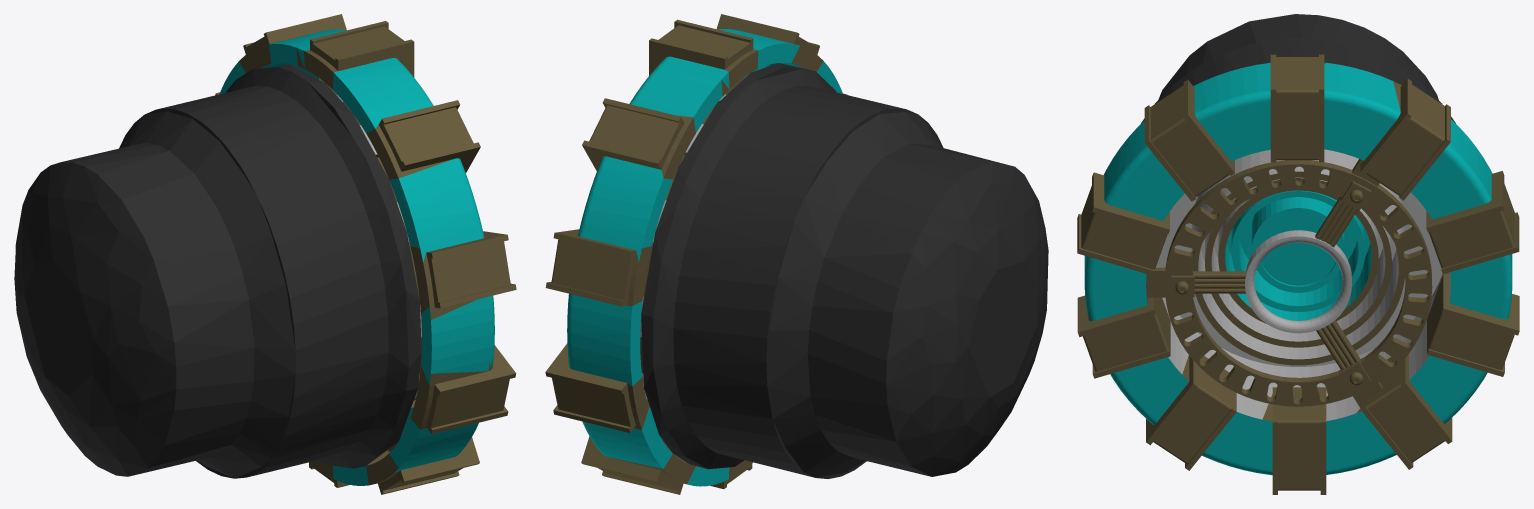
File: rEACTOR.fbx
The picture shows the model from 3 angles, left to right: view 1: azimuth 30°, elevation 25°; view 2: azimuth 150°, elevation 25°; view 3: azimuth 270°, elevation 25°; orthographic projection. The views are drawn at different scales.
Visible parts, largest first — view 1: polySurface5, polySurface28, polySurface11, polySurface9, polySurface13, polySurface27, polySurface15, polySurface25; view 2: polySurface5, polySurface28, polySurface17, polySurface19, polySurface15, polySurface21, polySurface13, polySurface23; view 3: polySurface28, polySurface2, polySurface5, polySurface1, polySurface13, polySurface15, polySurface17, polySurface11, polySurface7, polySurface4, polySurface19, polySurface9 (+5 smaller).
Boxes of the visible parts, bbox=[...] form: polySurface5: bbox=[14, 64, 421, 478]; polySurface28: bbox=[215, 14, 516, 494]; polySurface11: bbox=[389, 158, 484, 262]; polySurface9: bbox=[421, 295, 494, 385]; polySurface13: bbox=[333, 58, 433, 133]; polySurface27: bbox=[389, 418, 478, 473]; polySurface15: bbox=[268, 29, 346, 68]; polySurface25: bbox=[333, 407, 413, 485]; polySurface5: bbox=[641, 63, 1048, 478]; polySurface28: bbox=[545, 14, 847, 494]; polySurface17: bbox=[578, 156, 672, 262]; polySurface19: bbox=[567, 293, 642, 386]; polySurface15: bbox=[629, 56, 729, 132]; polySurface21: bbox=[582, 409, 672, 468]; polySurface13: bbox=[718, 29, 799, 68]; polySurface23: bbox=[648, 407, 729, 486]; polySurface28: bbox=[1077, 54, 1519, 494]; polySurface2: bbox=[1225, 190, 1371, 320]; polySurface5: bbox=[1141, 14, 1455, 123]; polySurface1: bbox=[1156, 149, 1450, 421]; polySurface13: bbox=[1193, 62, 1270, 161]; polySurface15: bbox=[1324, 62, 1400, 160]; polySurface17: bbox=[1411, 119, 1492, 219]; polySurface11: bbox=[1104, 120, 1184, 220]; polySurface7: bbox=[1245, 230, 1351, 333]; polySurface4: bbox=[1198, 177, 1398, 359]; polySurface19: bbox=[1449, 254, 1512, 319]; polySurface9: bbox=[1084, 256, 1147, 320].
Bounding box in the file's own units: 177 × 212 × 210.
